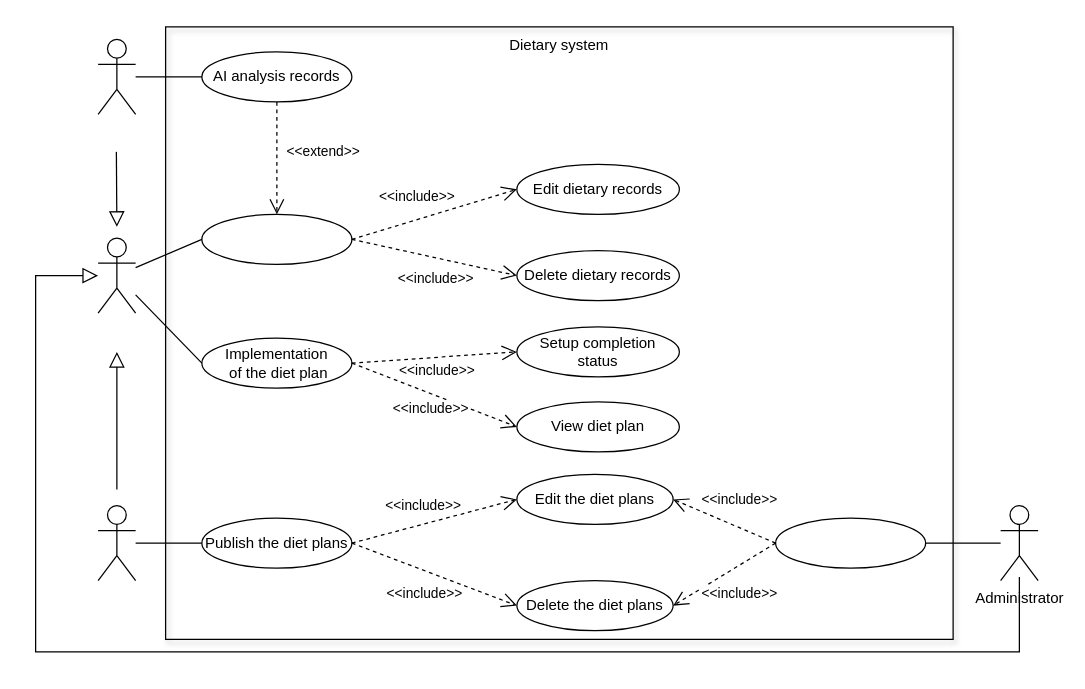
Image size: 1085x689. Some labels were removed from this diagram. The shapes that lost their labels are listed below. From the top down, each one's centre as x and y in pixels, then its label:
At point 116,76: "VIP".
At point 276,238: "Record dietary information".
At point 116,275: "User s".
At point 116,542: "Uploader".
At point 850,542: "Manage the diet plans".
